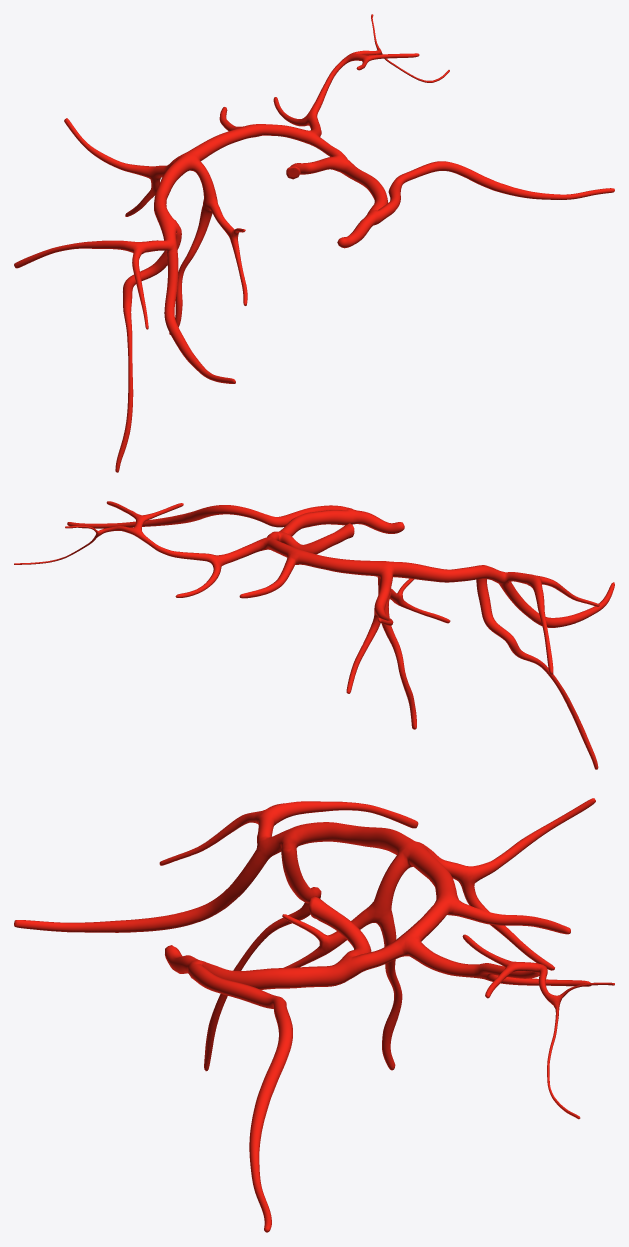
File: CBD.fbx
3 renders of one model, top to bottom at view 1: azimuth 30°, elevation 25°; view 2: azimuth 150°, elevation 25°; view 3: azimuth 270°, elevation 25°, orthographic. The views are drawn at different scales.
Visible parts, largest first — view 1: CBD; view 2: CBD; view 3: CBD.
Boxes of the visible parts, bbox=[...] form: CBD: bbox=[14, 14, 614, 472]; CBD: bbox=[14, 501, 614, 769]; CBD: bbox=[14, 798, 614, 1232].
Size of the model in its own units: 187 by 84.23 by 125.
